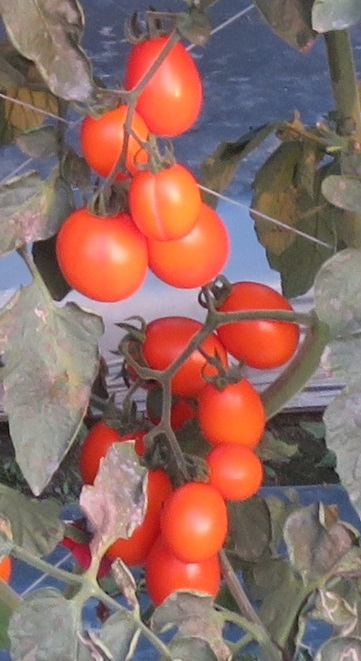orange: (54, 209, 145, 302), (127, 34, 205, 138), (216, 279, 301, 370), (138, 319, 225, 395), (159, 480, 226, 565), (131, 166, 204, 238), (194, 381, 265, 447), (150, 235, 235, 286), (203, 436, 264, 502), (143, 560, 233, 598)
